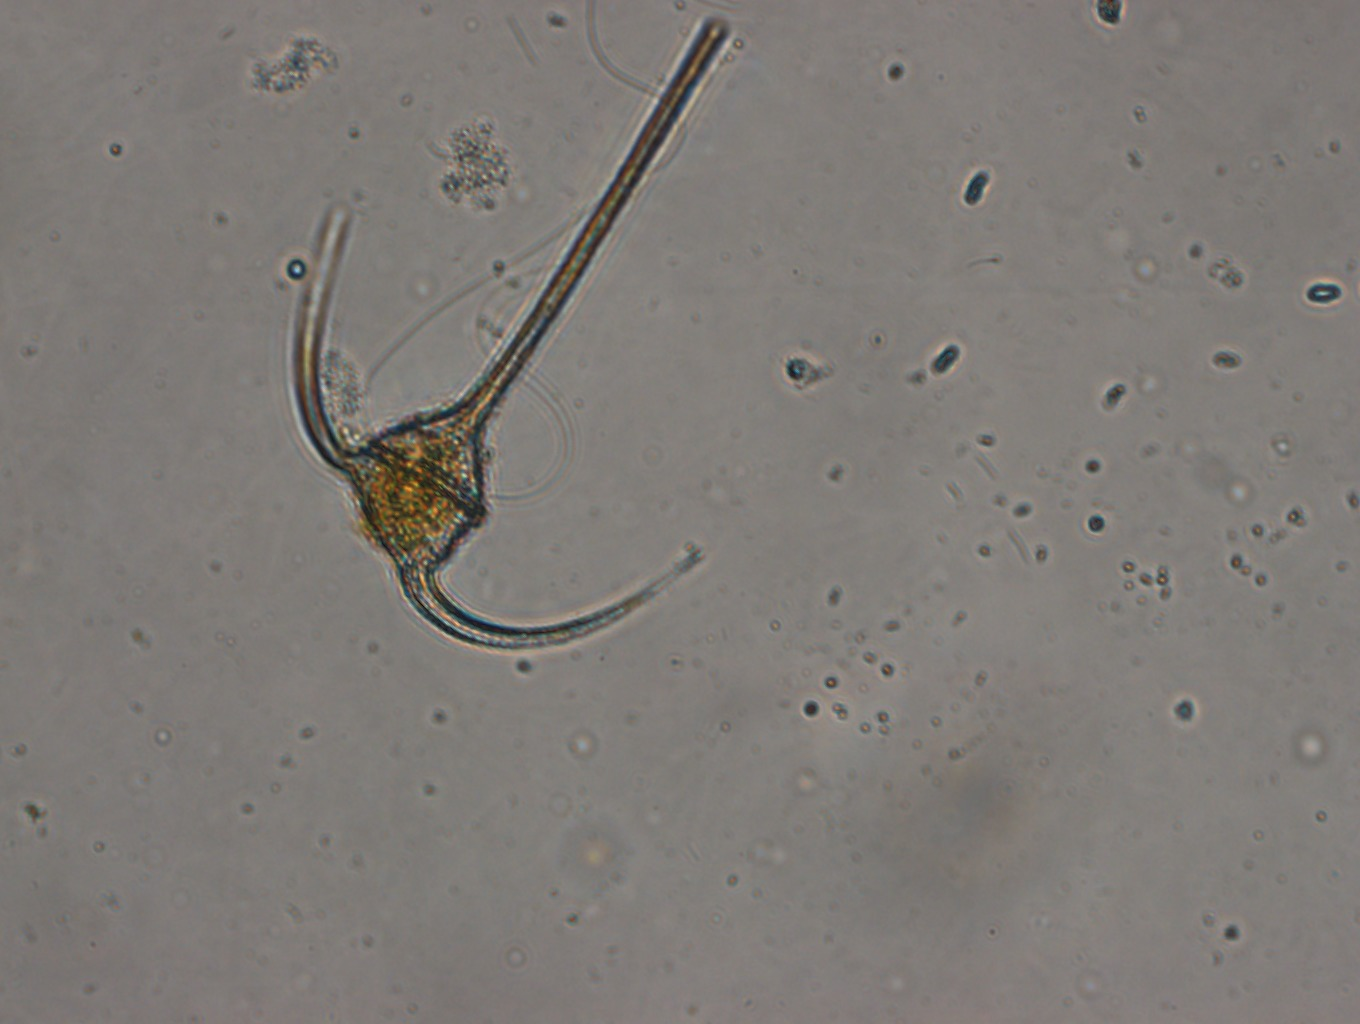ceratium trichoceros: (274, 15, 740, 657)
